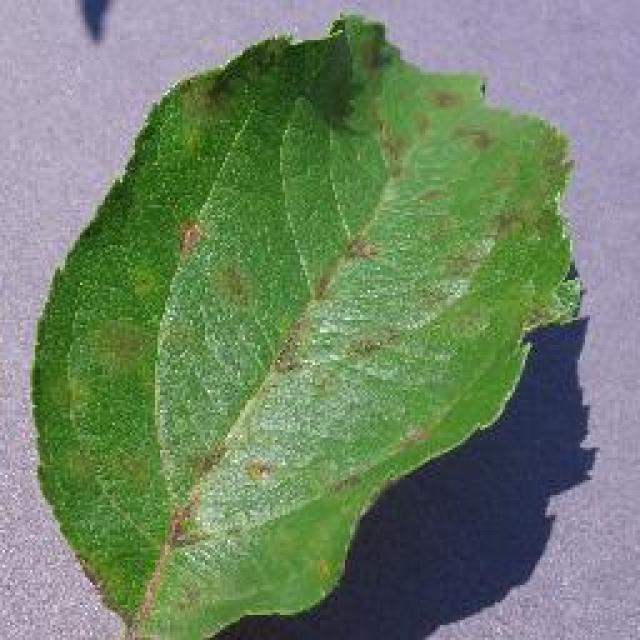apple scab disease: (25, 10, 585, 638)
